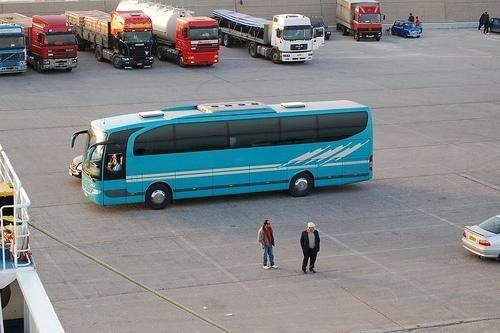bus: (70, 99, 376, 209)
car: (460, 215, 500, 261), (391, 20, 422, 38), (312, 20, 332, 40), (68, 154, 82, 179), (490, 18, 500, 32)
truck: (114, 1, 222, 67), (212, 6, 325, 64), (62, 10, 156, 68), (0, 12, 79, 75), (333, 0, 382, 40), (1, 22, 28, 82)
